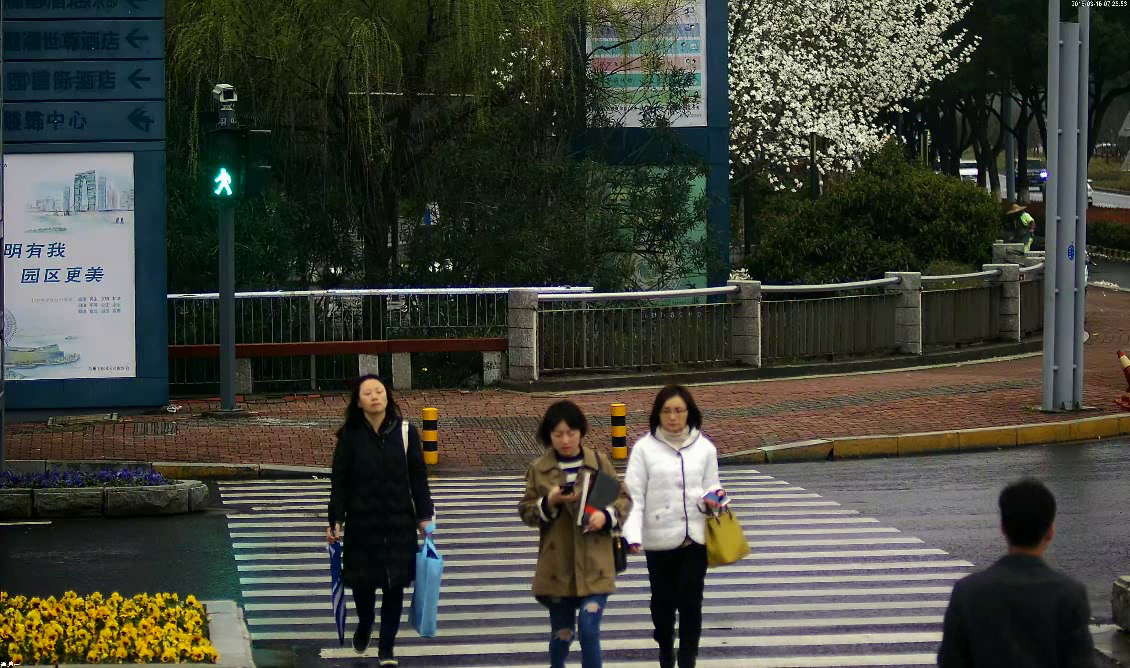person: (322, 374, 450, 666), (932, 474, 1113, 665), (619, 380, 733, 668), (515, 397, 638, 663), (997, 196, 1046, 267)
